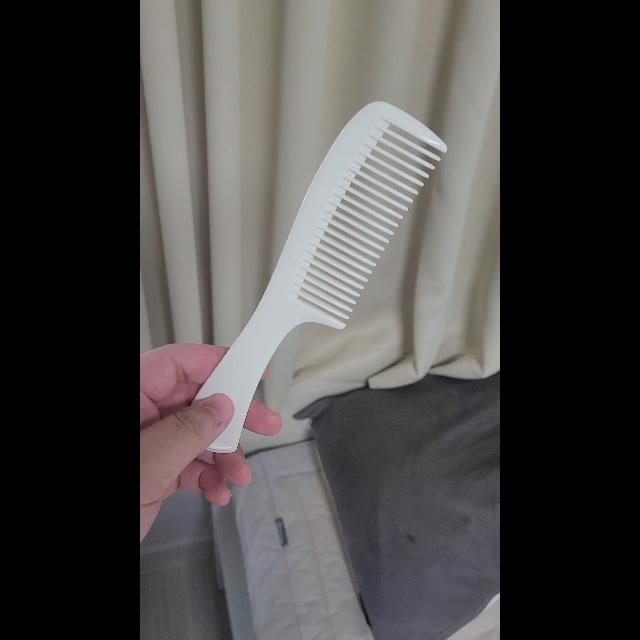COMB: (192, 100, 448, 453)
